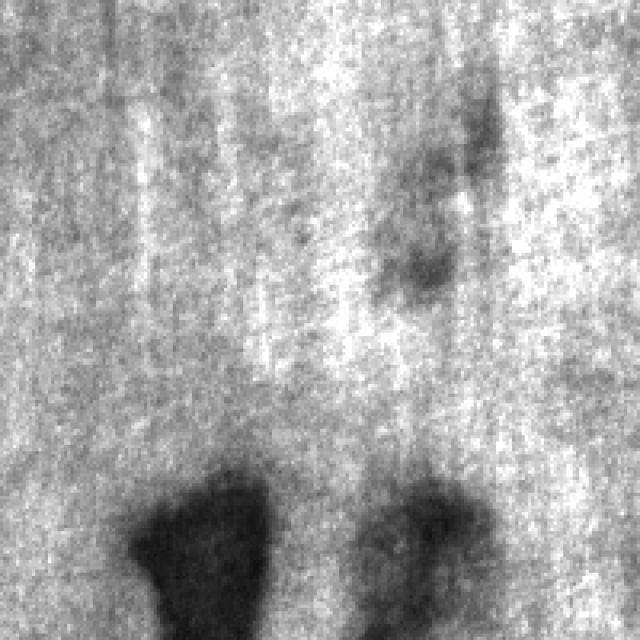patches: (122, 461, 275, 637), (346, 467, 492, 637)
